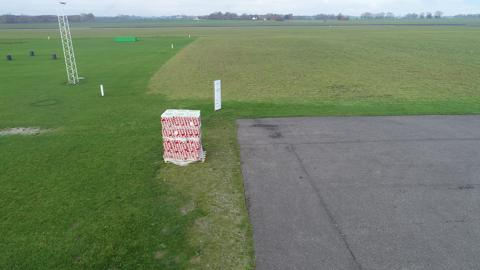RockwoolPallet: (159, 107, 204, 164)
